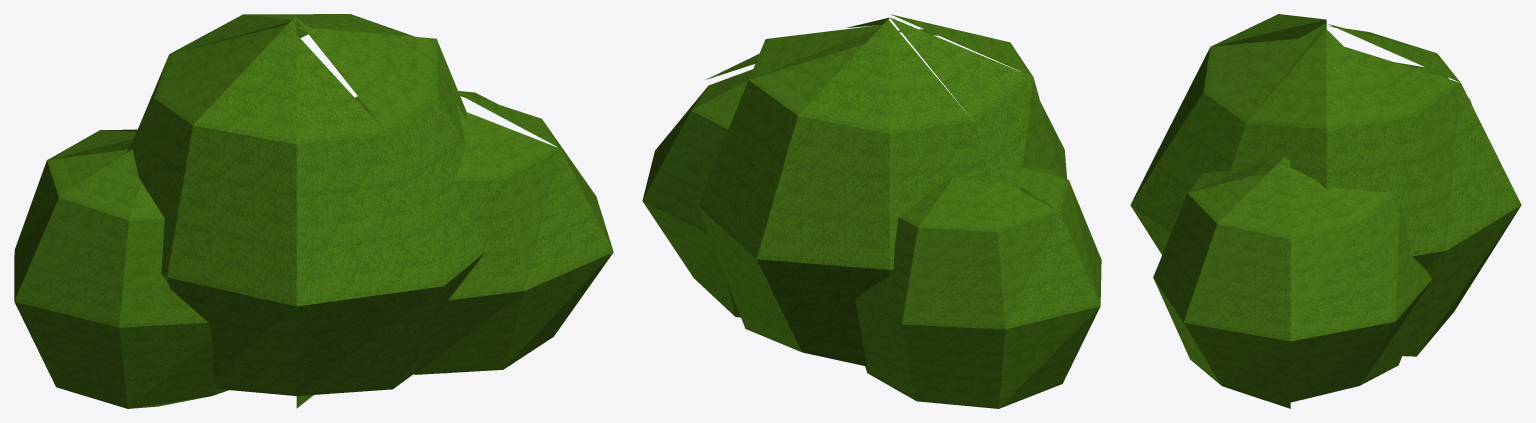
Rendered from bush_blob.glb.
The picture shows the model from 3 angles, left to right: view 1: azimuth 30°, elevation 25°; view 2: azimuth 150°, elevation 25°; view 3: azimuth 270°, elevation 25°; orthographic projection. The views are drawn at different scales.
Visible parts, largest first — view 1: _MeshInstance3D_9; view 2: _MeshInstance3D_9; view 3: _MeshInstance3D_9.
Part boxes in pixels (<box>): _MeshInstance3D_9: <box>14,14,613,408</box>; _MeshInstance3D_9: <box>642,14,1101,408</box>; _MeshInstance3D_9: <box>1130,14,1521,408</box>.
Bounding box in the file's own units: 1.51 × 1.05 × 1.09.
Materials: 1 (1 with a texture image).
